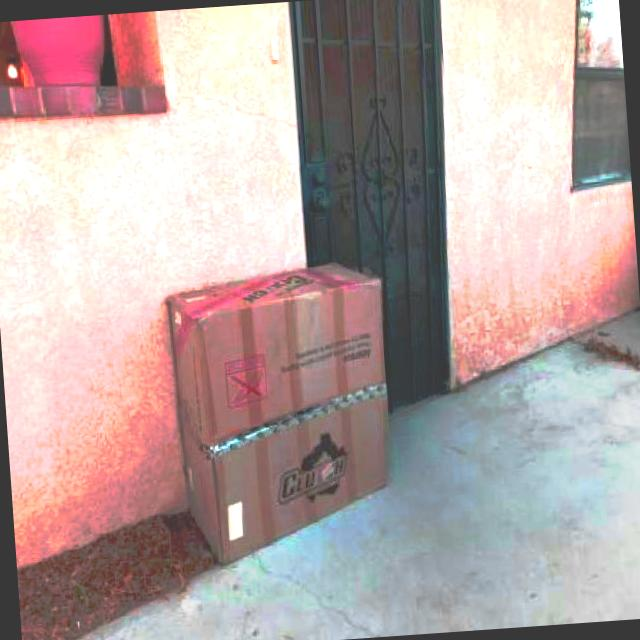Box: (165, 260, 399, 568)
